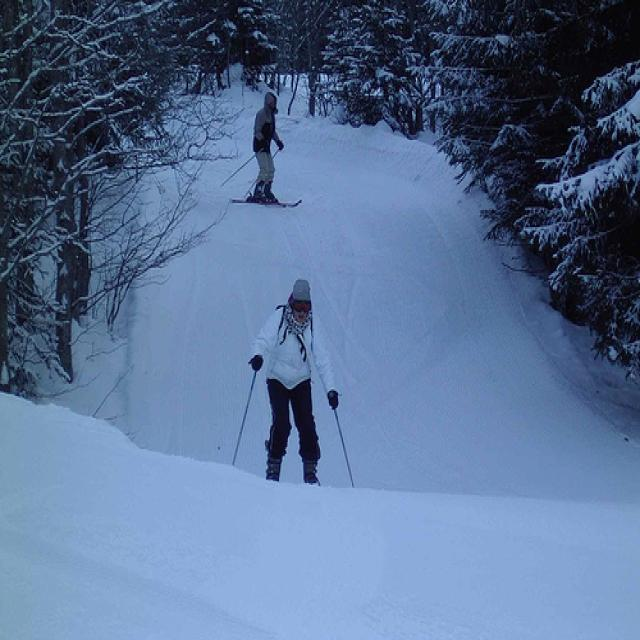person: (230, 278, 357, 489), (226, 75, 306, 213)
